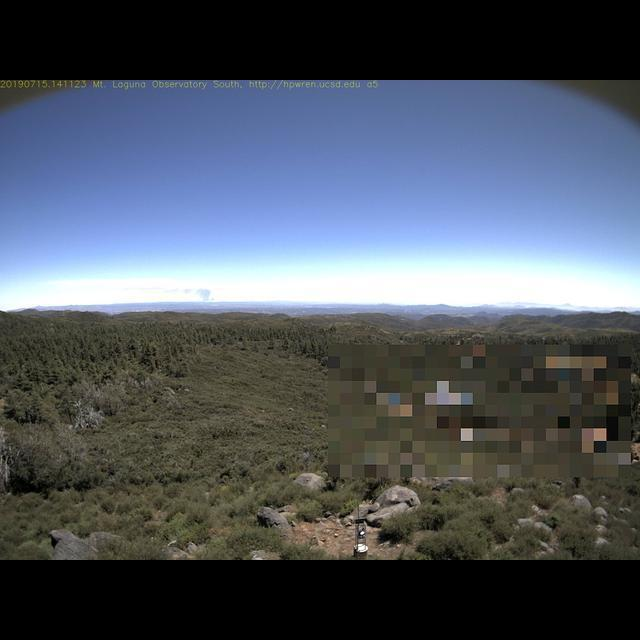Smoke: (174, 284, 212, 304)
